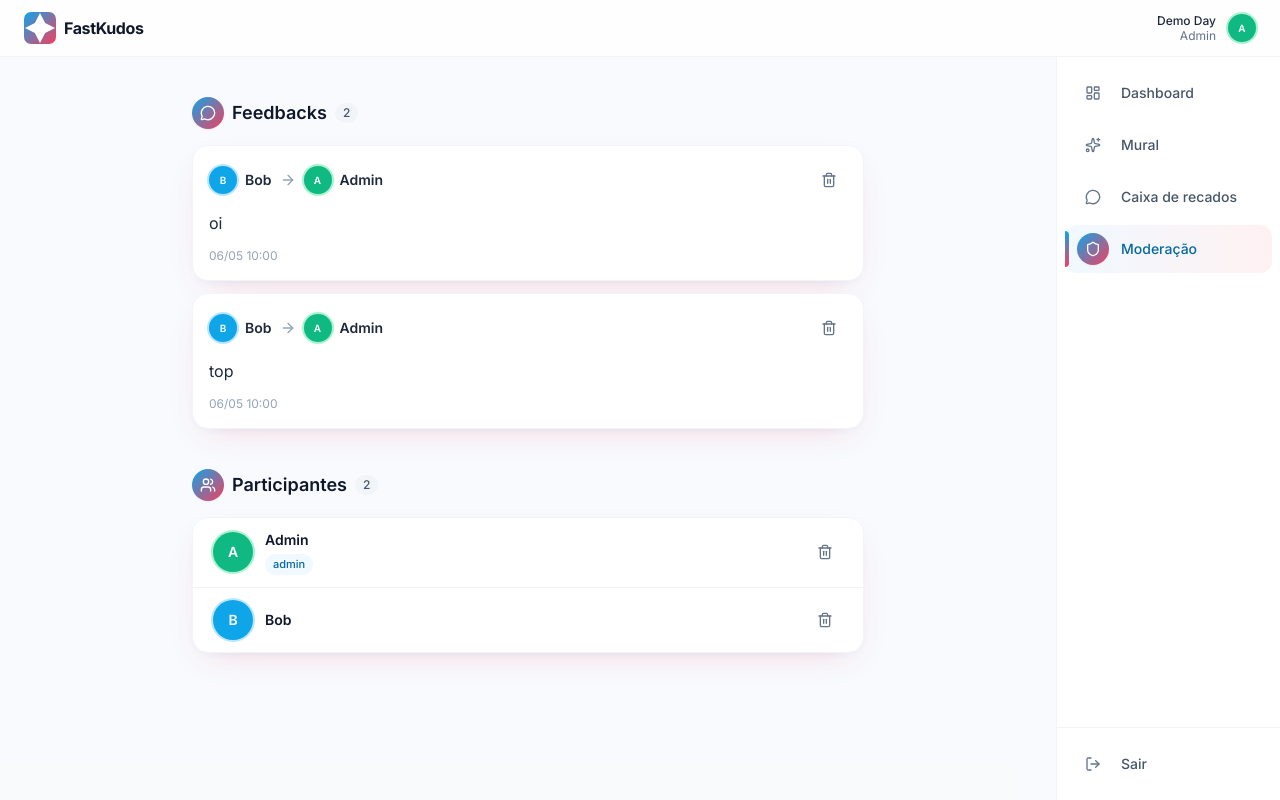
<EventModerationPage> › lista feedbacks e remove ao apagar usando o token do user logado
Expected: the text "oi" is shown, 209,213 -> 222,233
Step 1. Click the 1st button named "apagar" → x=829, y=180, box 811,162 -> 847,198
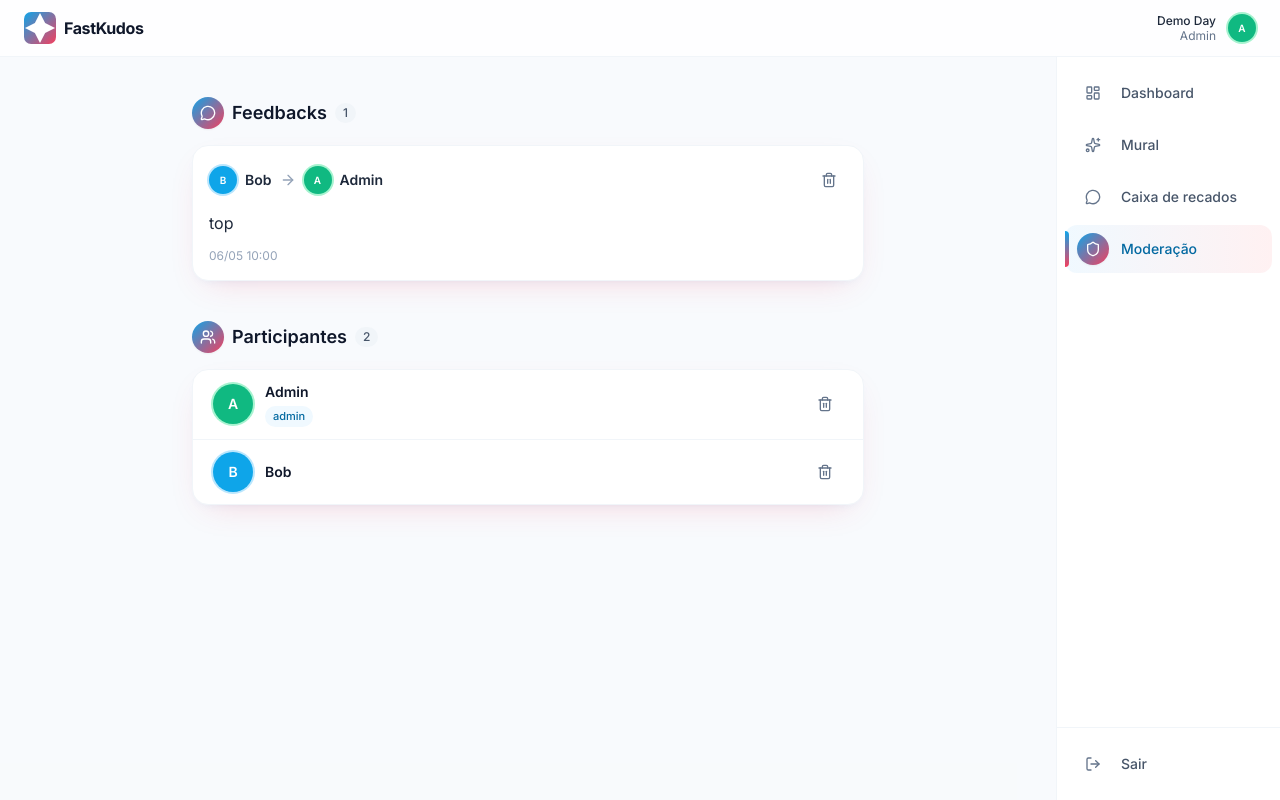
Expected: the text "top" is shown, 209,213 -> 234,233
Result: the text "oi" is gone
